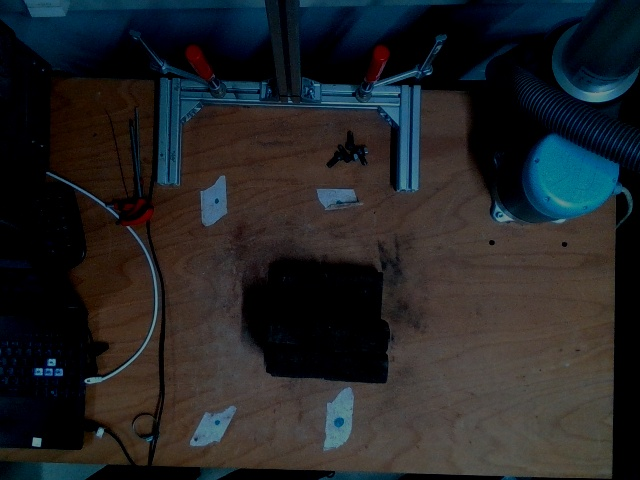brick-side: (272, 318, 387, 352), (268, 351, 383, 385)
